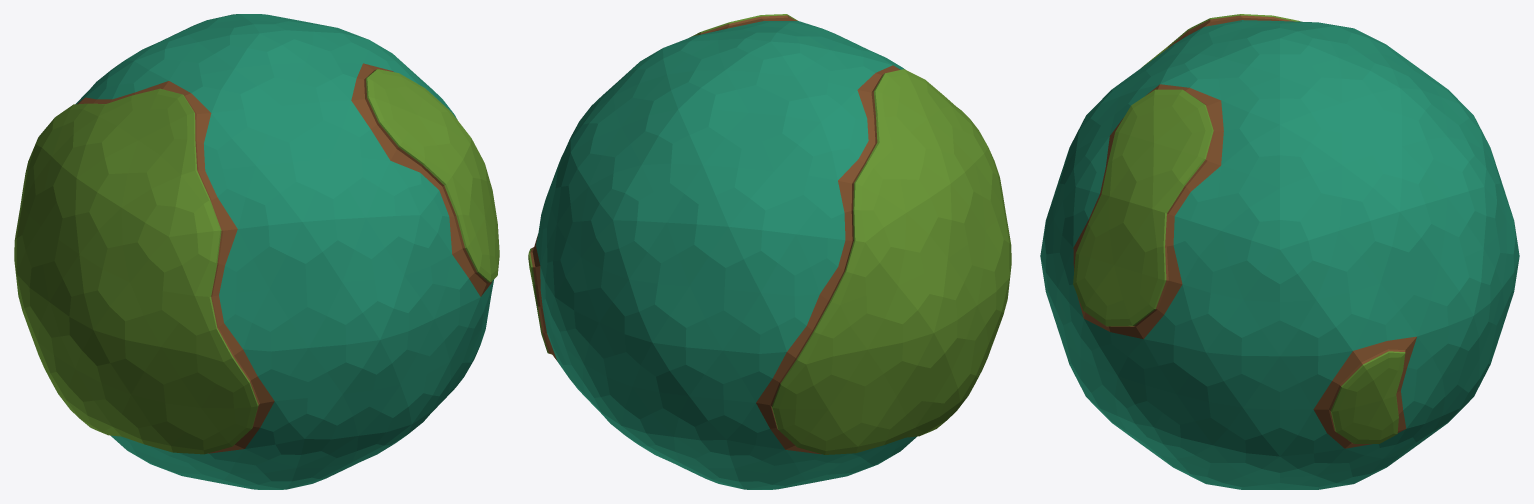
Rendered from Planet5.fbx.
3 views of the same model, side by side, from view 1: azimuth 30°, elevation 25°; view 2: azimuth 150°, elevation 25°; view 3: azimuth 270°, elevation 25° (orthographic).
Visible parts, largest first — view 1: Surface; view 2: Surface; view 3: Surface.
Boxes of the visible parts, box(x1,y1,x2,y2) form: Surface: box(14, 14, 499, 489); Surface: box(528, 14, 1011, 489); Surface: box(1040, 14, 1519, 489).
Size of the model in its own units: 757 by 762 by 760.
